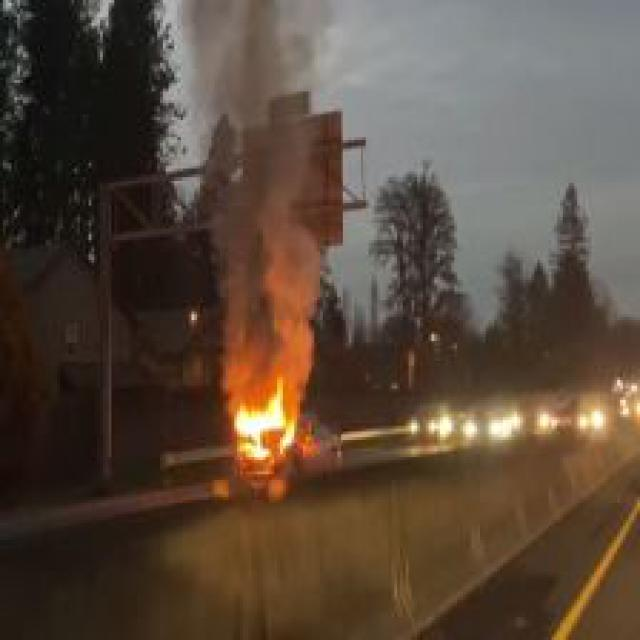fire: (217, 340, 317, 489)
